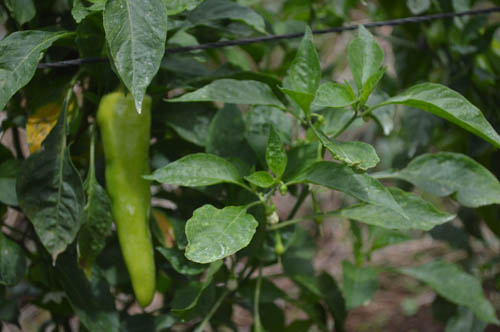ChiliPepper: (100, 90, 156, 306)
